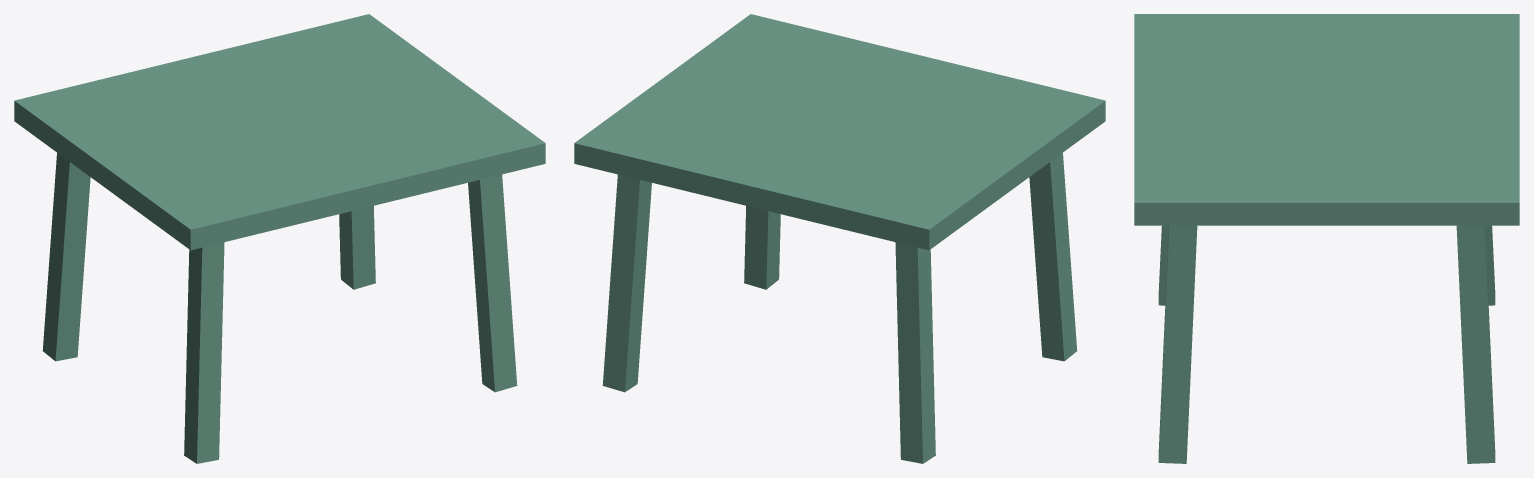
The model's file is PlasticTableLow.glb.
3 views of the same model, side by side, from view 1: azimuth 30°, elevation 25°; view 2: azimuth 150°, elevation 25°; view 3: azimuth 270°, elevation 25° (orthographic). The views are drawn at different scales.
Visible parts, largest first — view 1: ST_PlasticTableLow_ST_plastic_green.001; view 2: ST_PlasticTableLow_ST_plastic_green.001; view 3: ST_PlasticTableLow_ST_plastic_green.001.
Boxes of the visible parts, box(x1,y1,x2,y2) form: ST_PlasticTableLow_ST_plastic_green.001: box(14, 14, 545, 463); ST_PlasticTableLow_ST_plastic_green.001: box(574, 14, 1105, 463); ST_PlasticTableLow_ST_plastic_green.001: box(1134, 14, 1519, 463).
Size of the model in its own units: 0.72 by 0.4821 by 0.62.
